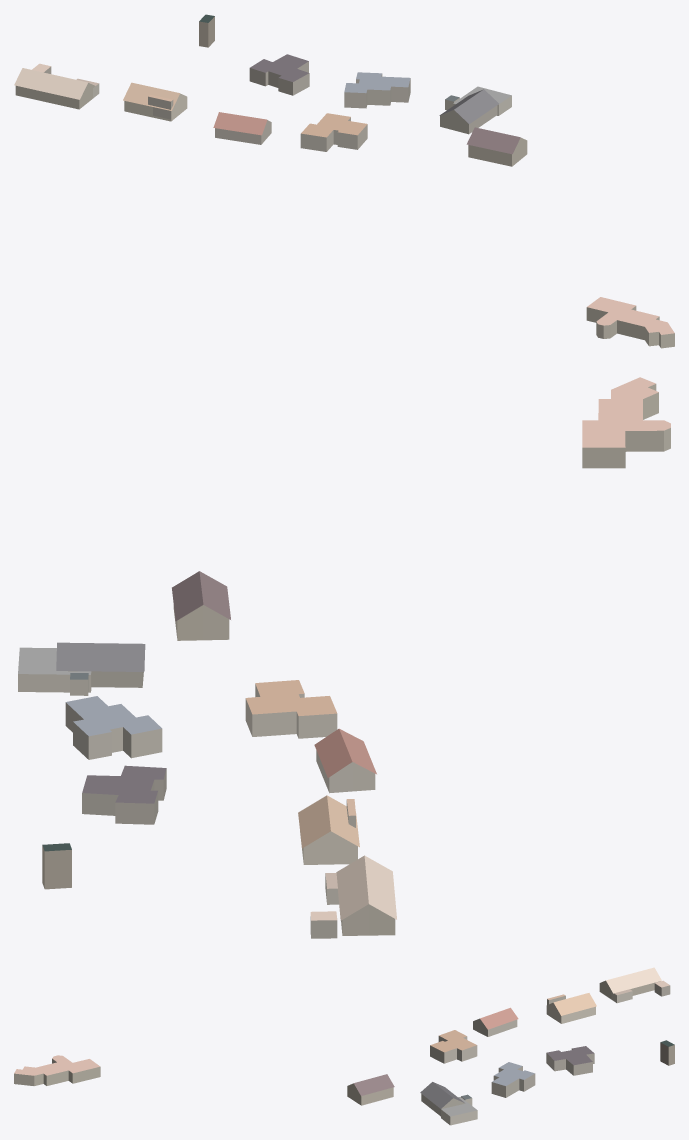
3 renders of one model, top to bottom at view 1: azimuth 30°, elevation 25°; view 2: azimuth 150°, elevation 25°; view 3: azimuth 270°, elevation 25°, orthographic. The views are drawn at different scales.
Parts seen in each view (by area): view 1: tuile; view 2: tuile; view 3: tuile.
Boxes of the visible parts, x1,y1,x2,y2 form: tuile: [14, 14, 674, 348]; tuile: [18, 377, 670, 938]; tuile: [14, 967, 674, 1125].
Size of the model in its own units: 128 by 11.27 by 255.
